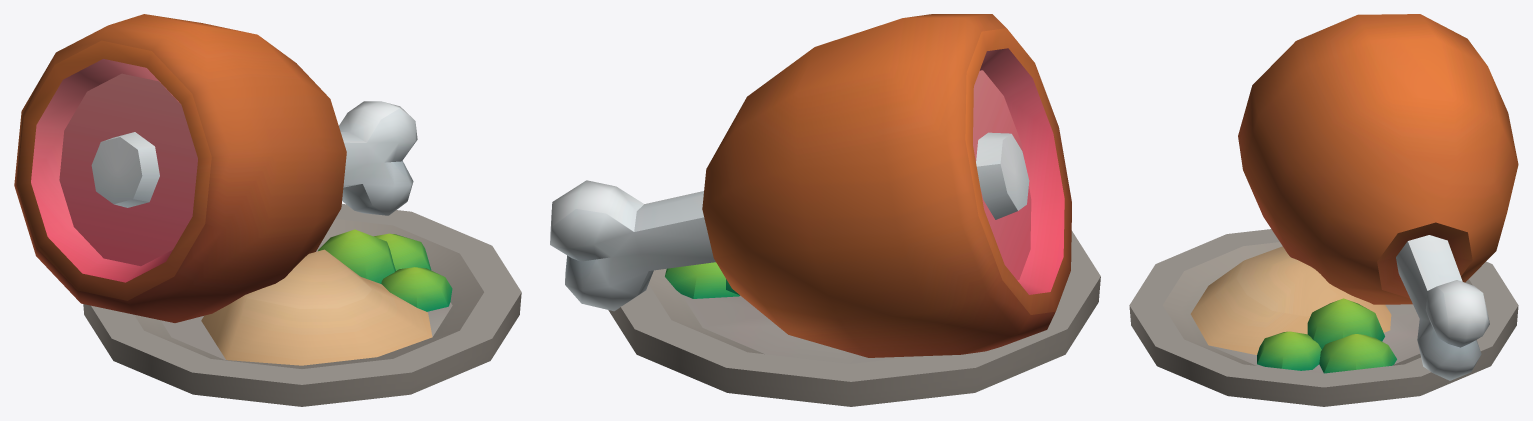
File: plate_food_A.glb
3 renders of one model, left to right at view 1: azimuth 30°, elevation 25°; view 2: azimuth 150°, elevation 25°; view 3: azimuth 270°, elevation 25°, orthographic. The views are drawn at different scales.
Visible parts, largest first — view 1: plate_food_A; view 2: plate_food_A; view 3: plate_food_A.
Boxes of the visible parts, x1,y1,x2,y2 form: plate_food_A: (14, 14, 521, 406); plate_food_A: (550, 14, 1100, 406); plate_food_A: (1129, 14, 1518, 406).
Size of the model in its own units: 1.02 by 0.7875 by 0.9706.
1 material, 1 textured.
